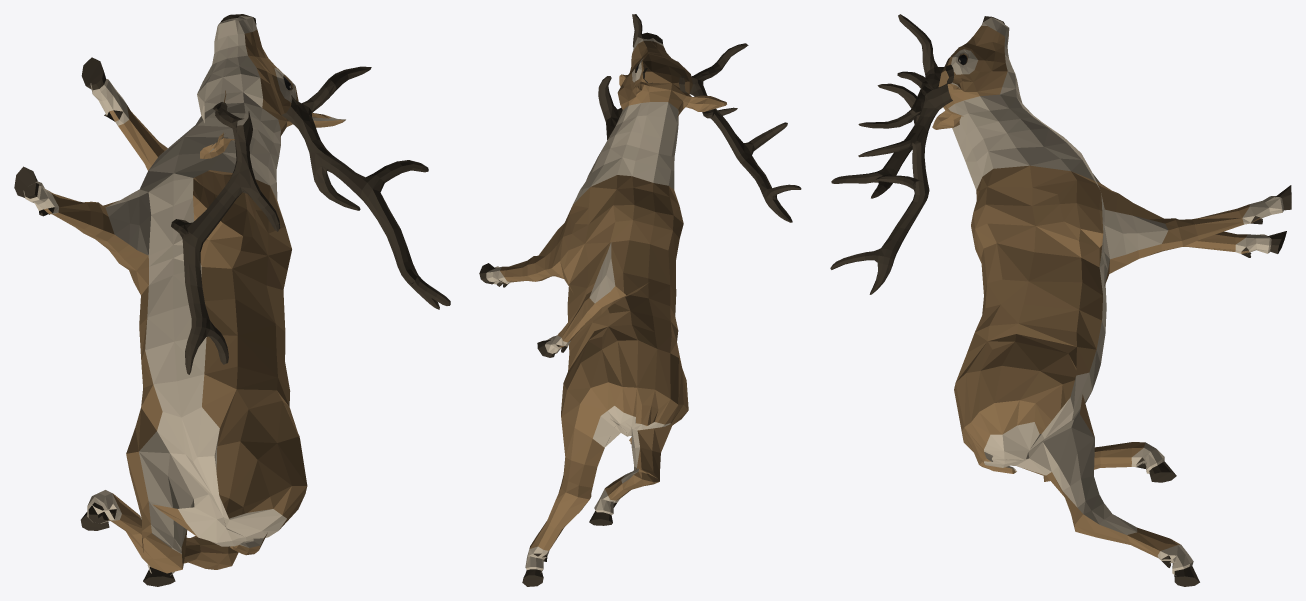
File: stag-gallop-0.glb
3 renders of one model, left to right at view 1: azimuth 30°, elevation 25°; view 2: azimuth 150°, elevation 25°; view 3: azimuth 270°, elevation 25°, orthographic. The views are drawn at different scales.
Size of the model in its own units: 0.8649 by 2.18 by 1.66.
